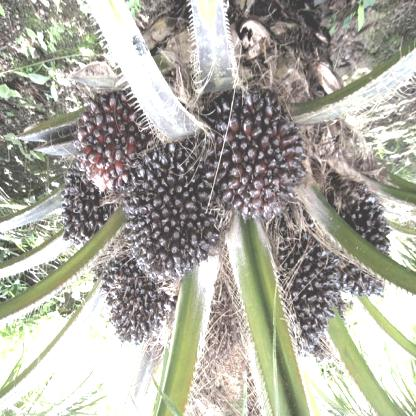1: (200, 86, 301, 216), (77, 91, 149, 190)
palm-oil: (125, 142, 225, 276), (272, 233, 334, 354), (330, 183, 390, 304), (102, 260, 170, 342), (59, 182, 101, 244)
